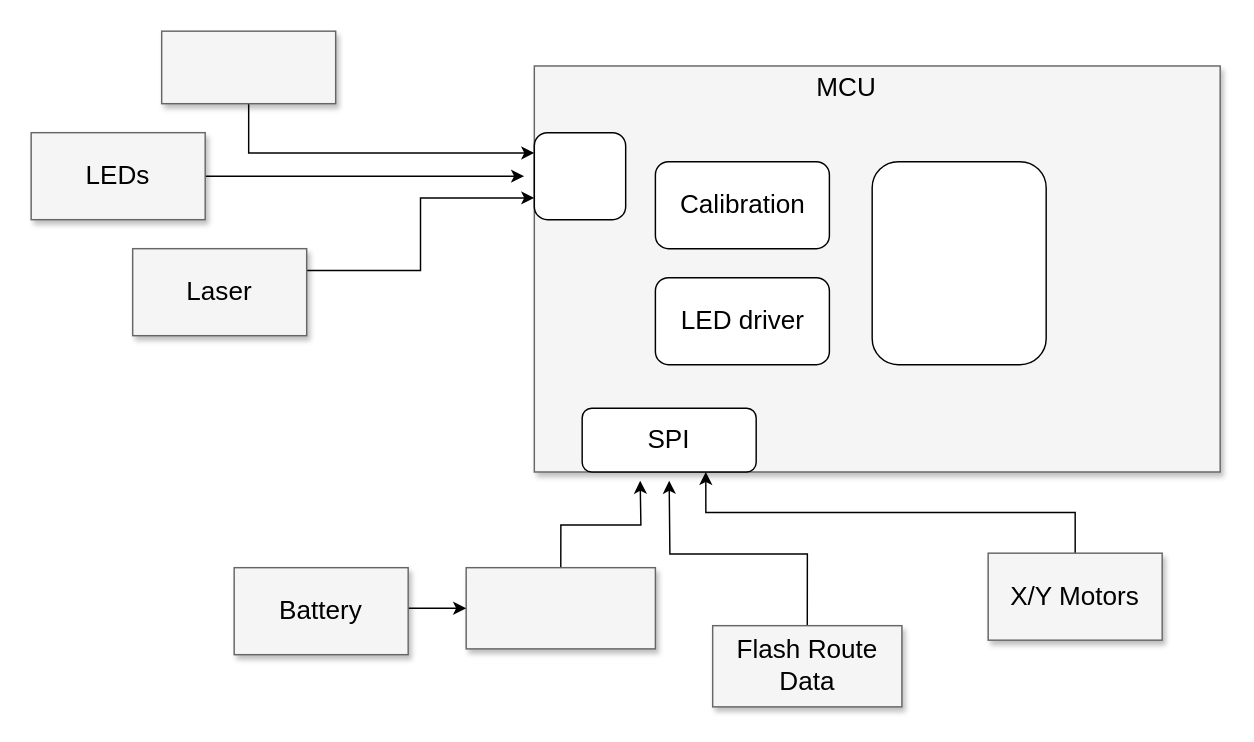
This 1254x742 diagram has some shape labels left out. Here are the shapes that lost their labels. From the top down, the centre of each, then its label:
At pixel 249 69: "Buttons".
At pixel 579 175: "GPIO".
At pixel 958 262: "X/Y Cartesian Interpreter".
At pixel 561 609: "Charge Controller".
